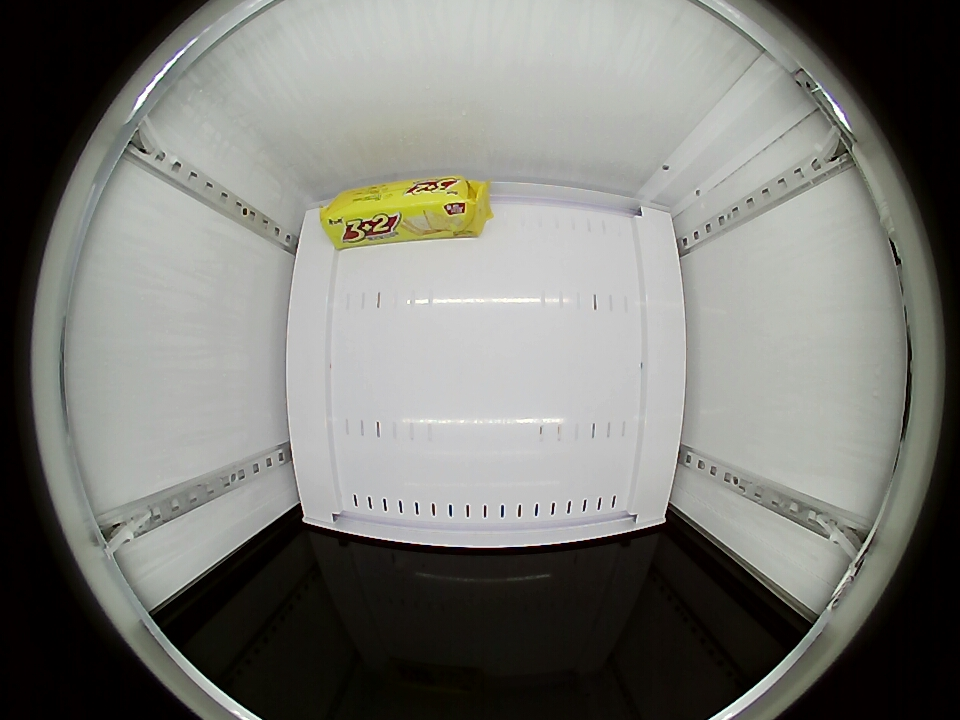3+2-2: (320, 176, 485, 243)
